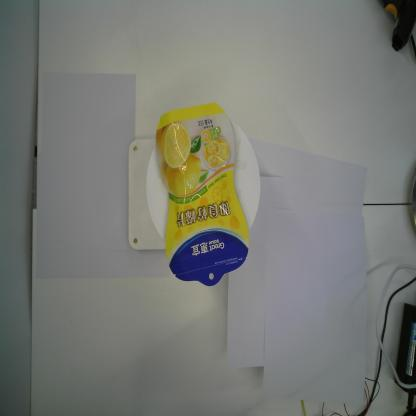Dried Fruit: (152, 100, 251, 290)
